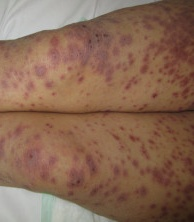SJS-TEN: (0, 116, 194, 222), (0, 0, 194, 104)
